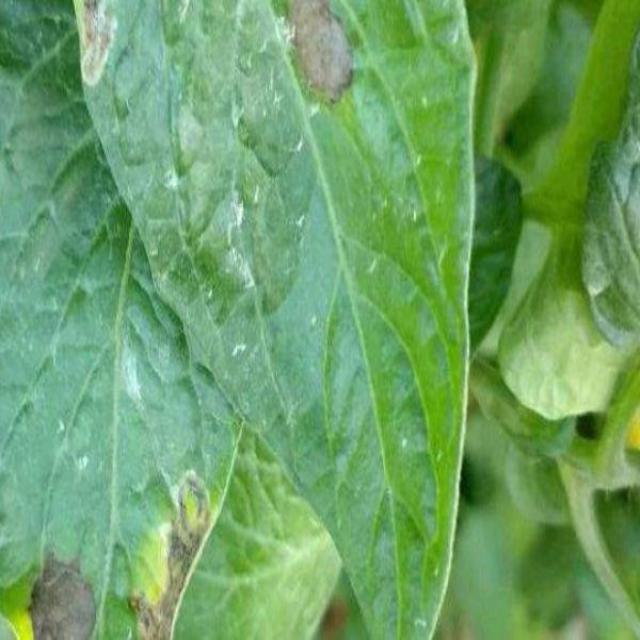Early_blight: (121, 468, 221, 640), (273, 1, 356, 109), (24, 540, 99, 640), (72, 1, 118, 90)
